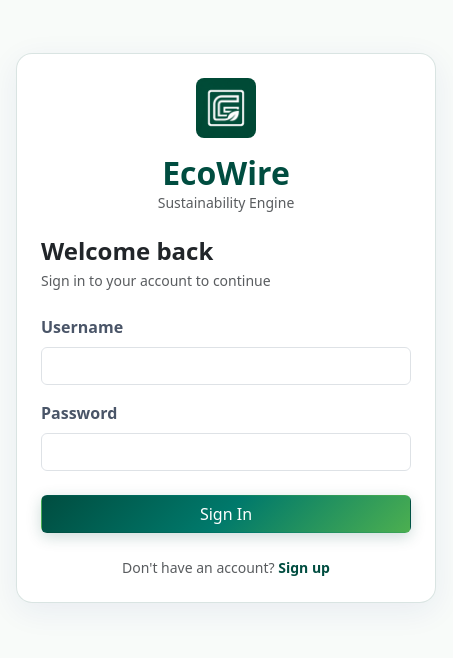
Test: LoginPage — unit tests › shows error alert on failed login (mock API returning error)
This screenshot has width=453, height=658.
Type "testuser" into the field labelled "Username".
click(226, 366); type("testuser")  # box top-left (41, 347), bottom-right (411, 385)
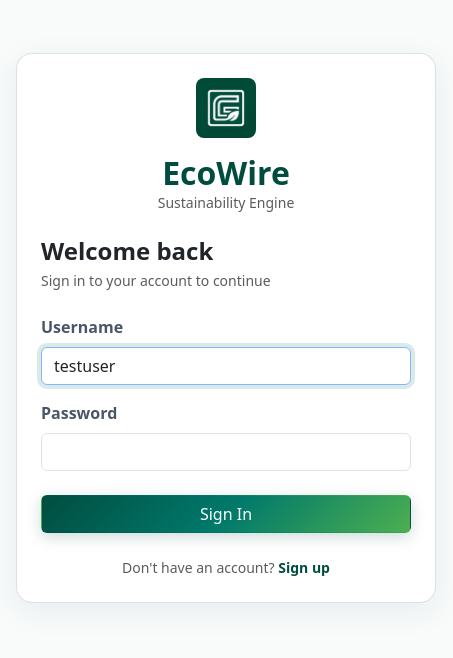
Type "testpass" into the password field labelled "Password".
click(226, 452); type("testpass")  # box top-left (41, 433), bottom-right (411, 471)
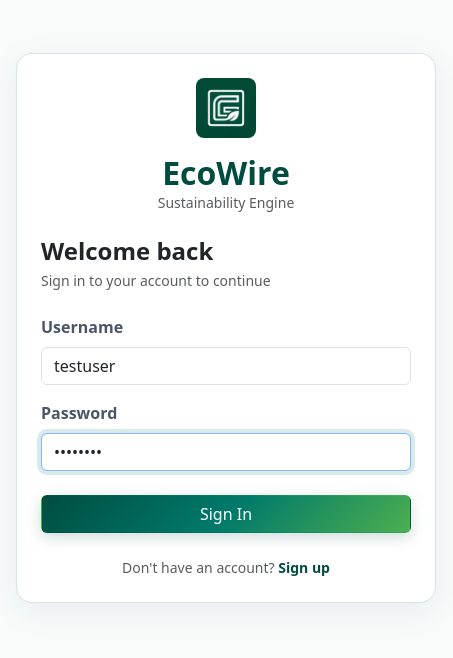
Click the button "Sign In".
click(226, 514)  # box top-left (41, 495), bottom-right (411, 533)
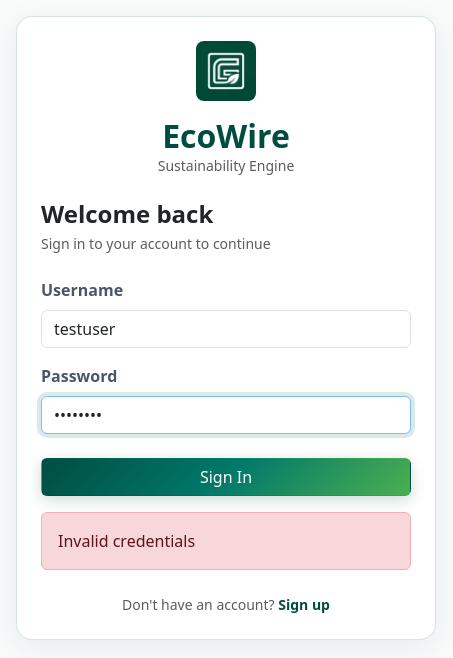
Now the message reads "Invalid credentials", box top-left (58, 530), bottom-right (195, 552)
